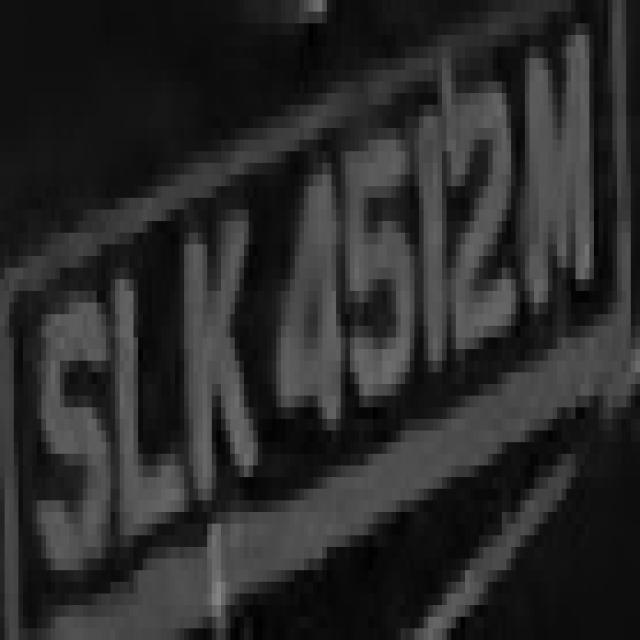1: (410, 93, 456, 431)
2: (447, 82, 520, 396)
4: (262, 140, 350, 466)
5: (332, 93, 414, 419)
K: (175, 174, 253, 524)
L: (110, 232, 170, 488)
M: (516, 35, 603, 337)
S: (28, 267, 110, 558)
